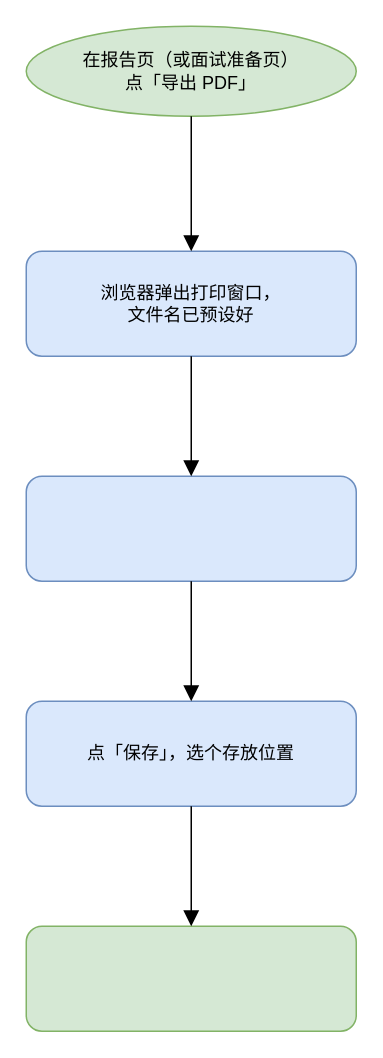
This 383x1058 diagram has some shape labels left out. The centre of each missing label's shape, as x and y in pixels:
在目标打印机里选「另存为 PDF」: pixel 190 528
得到一份 PDF， 雷达图与页面上所见一致: pixel 190 978
